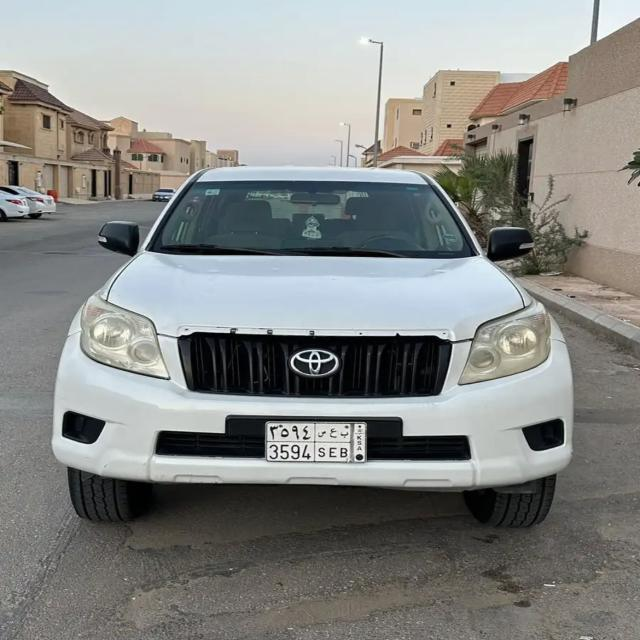license_plate: (266, 420, 368, 463)
